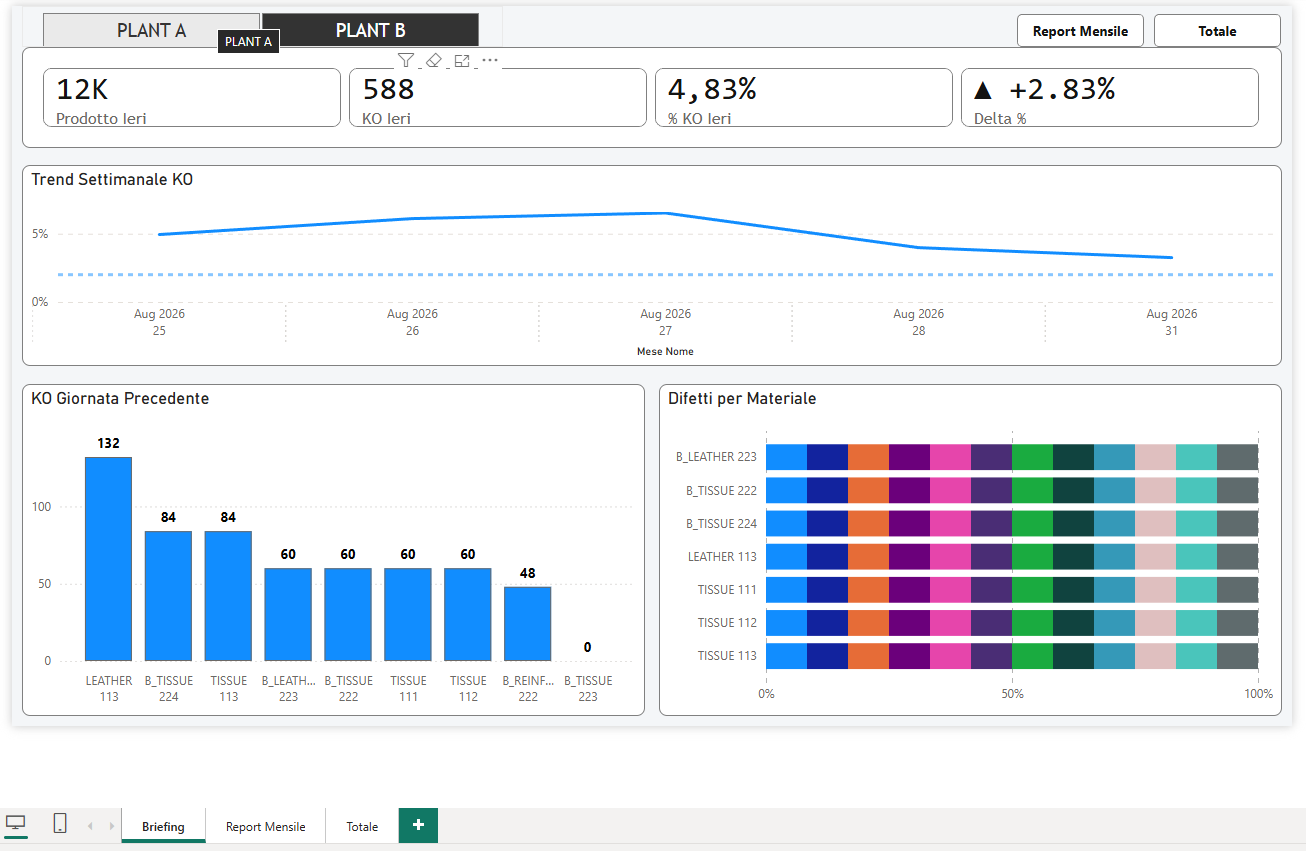

What the dashboard file says about the page in this screenshot:
{"tool":"powerbi","page":{"name":"Briefing","canvas":[1280,720],"ordinal":0},"visuals":[{"type":"cardVisual","fields":{"Data":["_Misure.Prodotto Ieri","_Misure.KO Ieri","_Misure.% KO Ieri","_Misure.Delta % con indicatore"]},"box":[10,41,1260,101],"z":0},{"type":"lineChart","title":"Trend Settimanale KO","fields":{"Category":["Calendario.Giorno","Calendario.Mese Nome"],"Y":["_Misure.Loss Rate %"]},"box":[10,159,1260,201],"z":1000},{"type":"clusteredColumnChart","title":"KO Giornata Precedente","fields":{"Category":["CMZ_Data_Entry.Materiale"],"Y":["Misure.KO Ieri"]},"box":[10,378,623,332],"z":2000},{"type":"hundredPercentStackedBarChart","title":"Difetti per Materiale","fields":{"Category":["CMZ_Data_Entry.Materiale"],"Series":["CMZ_Data_Entry.Nome Difetto"],"Y":["Misure.KO Ieri"]},"box":[647,378,623,332],"z":3000},{"type":"slicer","fields":{"Values":["CMZ_Data_Entry.Plant"]},"box":[10,0,481,41],"z":4000},{"type":"pageNavigator","box":[1005,8,265,33],"z":5000}]}

Visuals, with their boxes on the page's 1280x720 design canvas (x1, y1, x2, y2). These are canvas units, not pixel positions in the 1306x851 screenshot, which may show the page scaled, cropped or inside an application window:
cardVisual - _Misure.Prodotto Ieri x _Misure.KO Ieri: (x1=10, y1=41, x2=1270, y2=142)
"Trend Settimanale KO" lineChart: (x1=10, y1=159, x2=1270, y2=360)
"KO Giornata Precedente" clusteredColumnChart: (x1=10, y1=378, x2=633, y2=710)
"Difetti per Materiale" hundredPercentStackedBarChart: (x1=647, y1=378, x2=1270, y2=710)
slicer - CMZ_Data_Entry.Plant: (x1=10, y1=0, x2=491, y2=41)
pageNavigator: (x1=1005, y1=8, x2=1270, y2=41)
